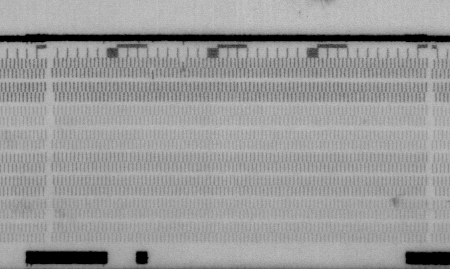Oblique printing: (178, 58, 190, 74), (147, 68, 159, 81)
